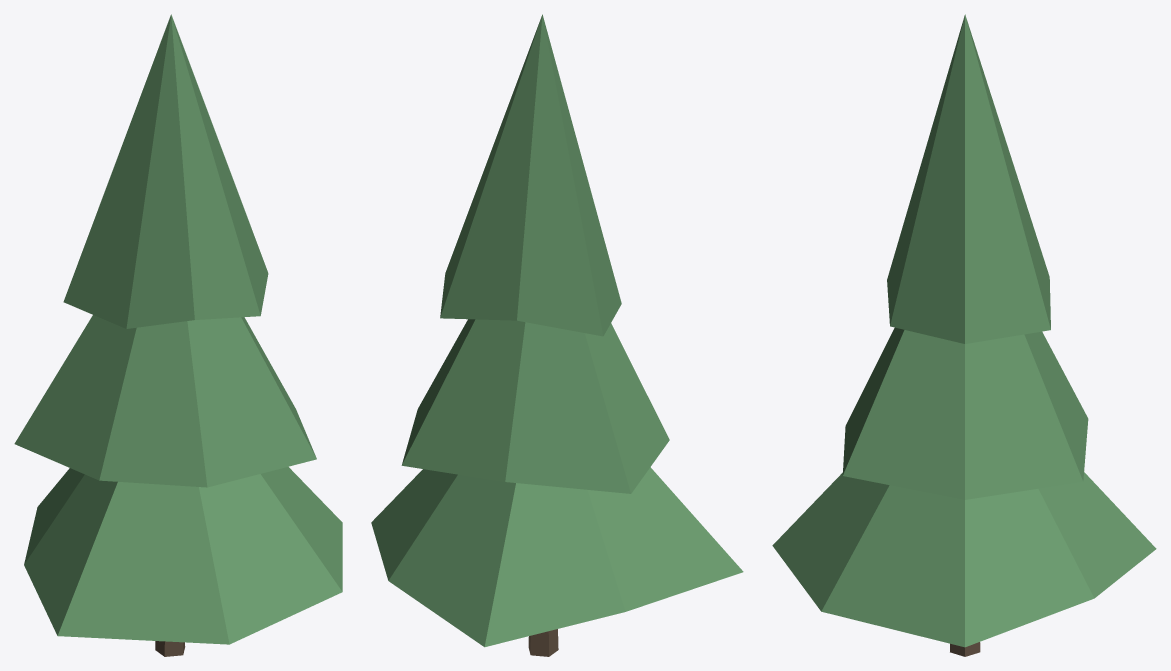
File: facet-conifer.glb
The picture shows the model from 3 angles, left to right: view 1: azimuth 30°, elevation 25°; view 2: azimuth 150°, elevation 25°; view 3: azimuth 270°, elevation 25°; orthographic projection.
Size of the model in its own units: 5.19 by 9.6 by 5.26.
